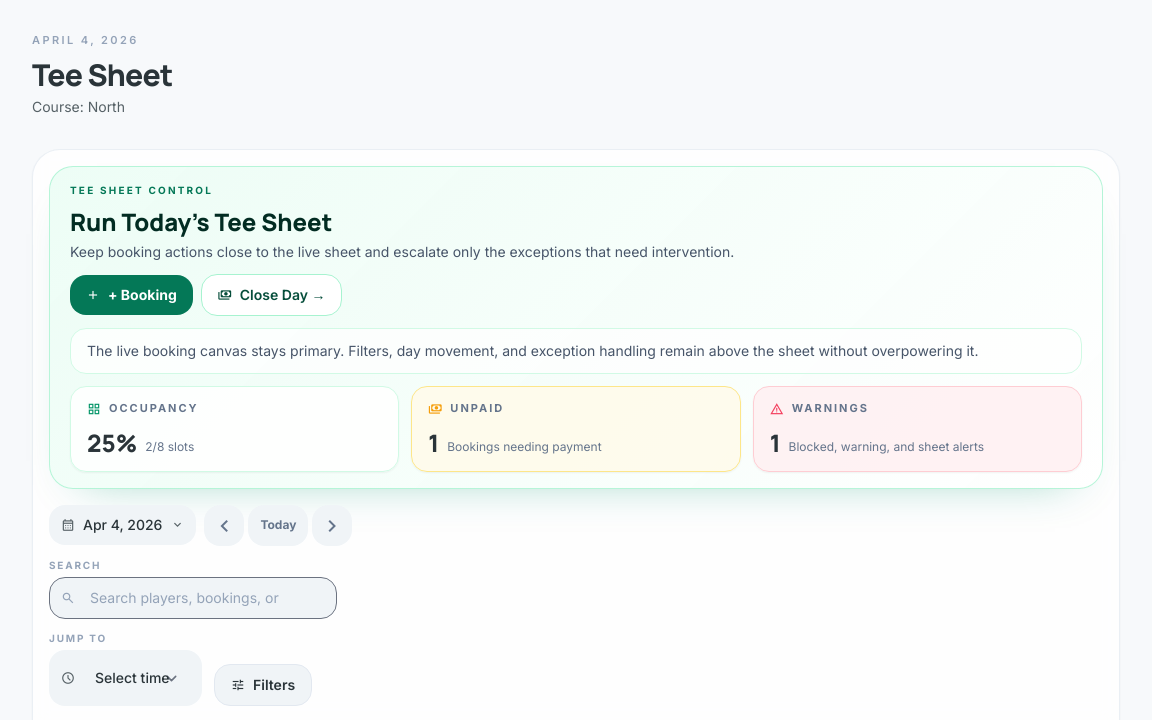
Test: AdminGolfTeeSheetPage › date navigation › previous day button moves the selected date back by one day
Click the button named "Previous day". click: (224, 525)
box: 204,504 -> 244,546
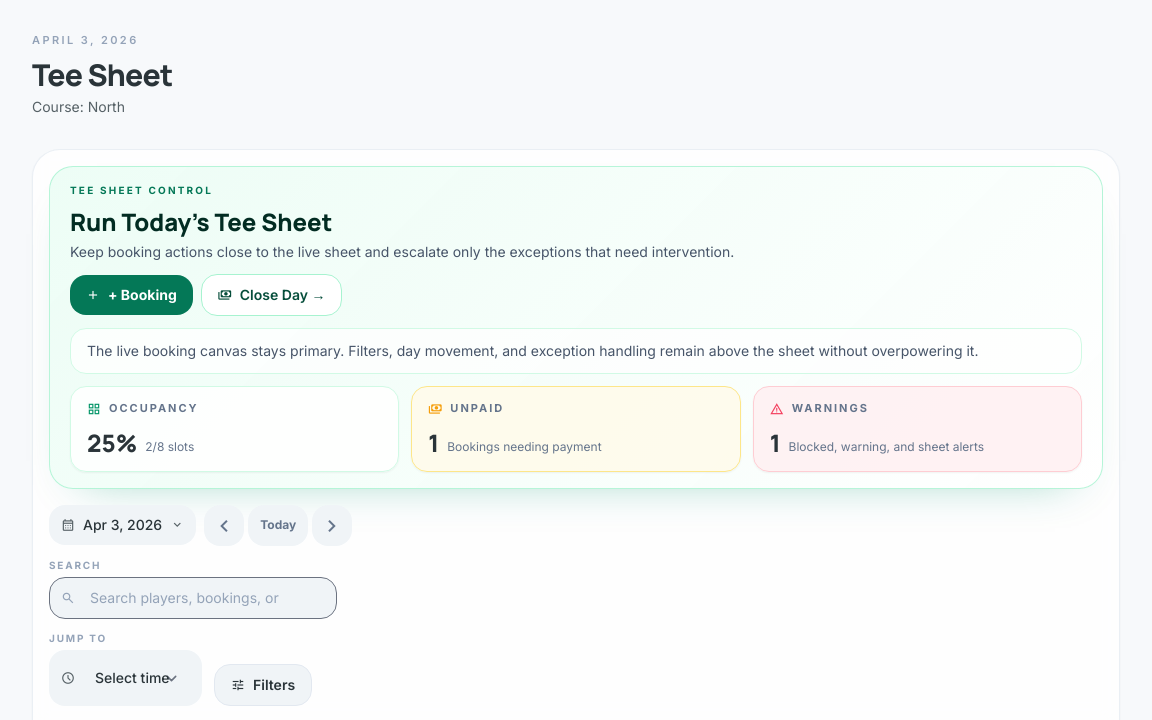
Expected: the text "April 3, 2026" is shown, 32,33 -> 139,47
